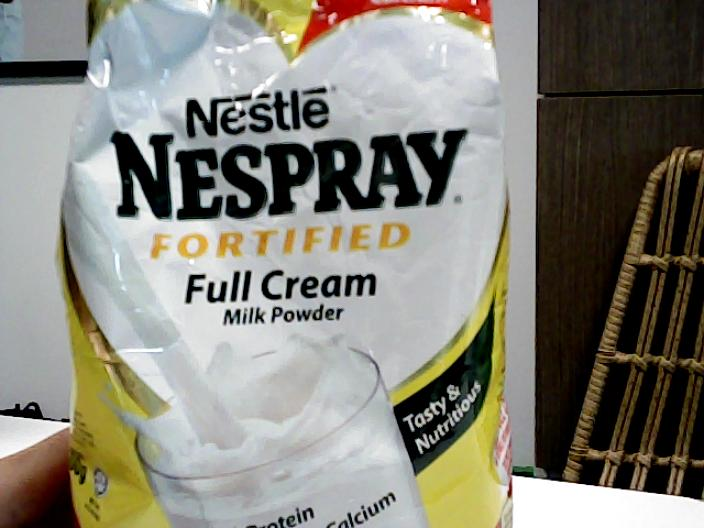Adult_Milk_600-699g_Halal_NonHealthy: (72, 1, 512, 528)
